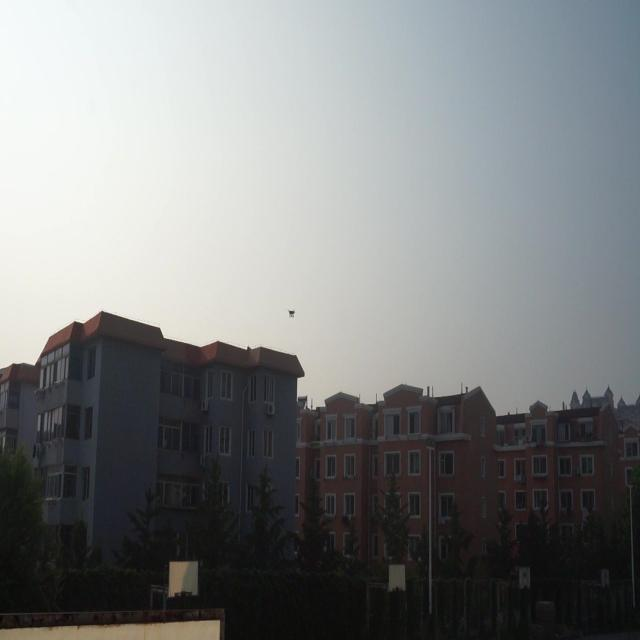drone: (287, 304, 297, 319)
